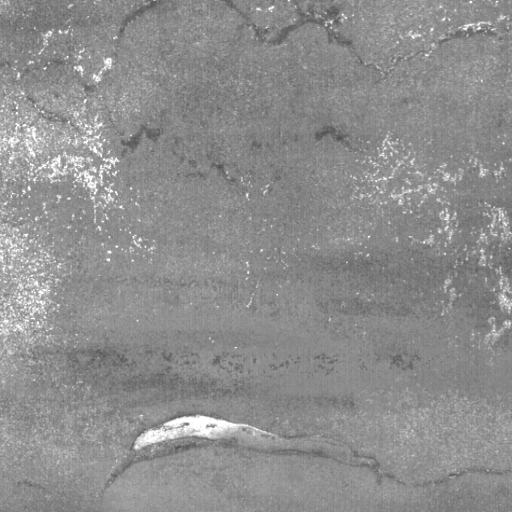qiaopi: (101, 413, 389, 490)
